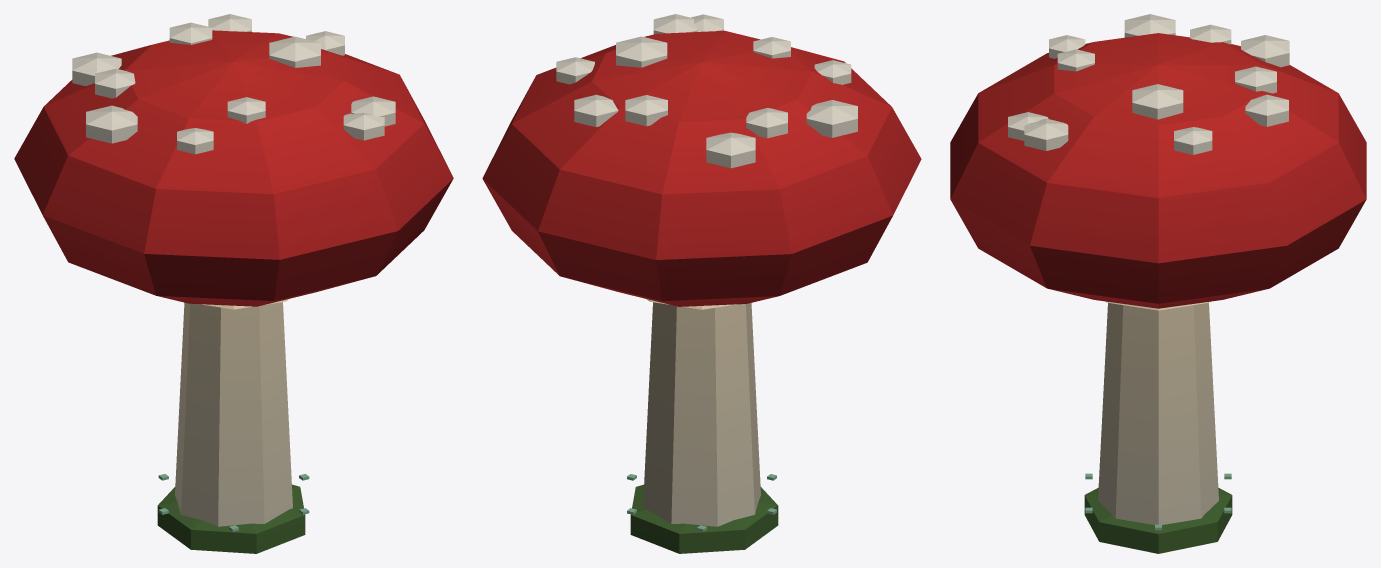
The model's file is toadstool_giant.glb.
3 views of the same model, side by side, from view 1: azimuth 30°, elevation 25°; view 2: azimuth 150°, elevation 25°; view 3: azimuth 270°, elevation 25° (orthographic).
Visible parts, largest first — view 1: toadstool_giant; view 2: toadstool_giant; view 3: toadstool_giant.
Part boxes in pixels (left/top/right/bottom): toadstool_giant: left=14, top=14, right=453, bottom=553; toadstool_giant: left=482, top=14, right=921, bottom=553; toadstool_giant: left=950, top=14, right=1366, bottom=553.
Bounding box in the file's own units: 3 × 3.56 × 2.85.
